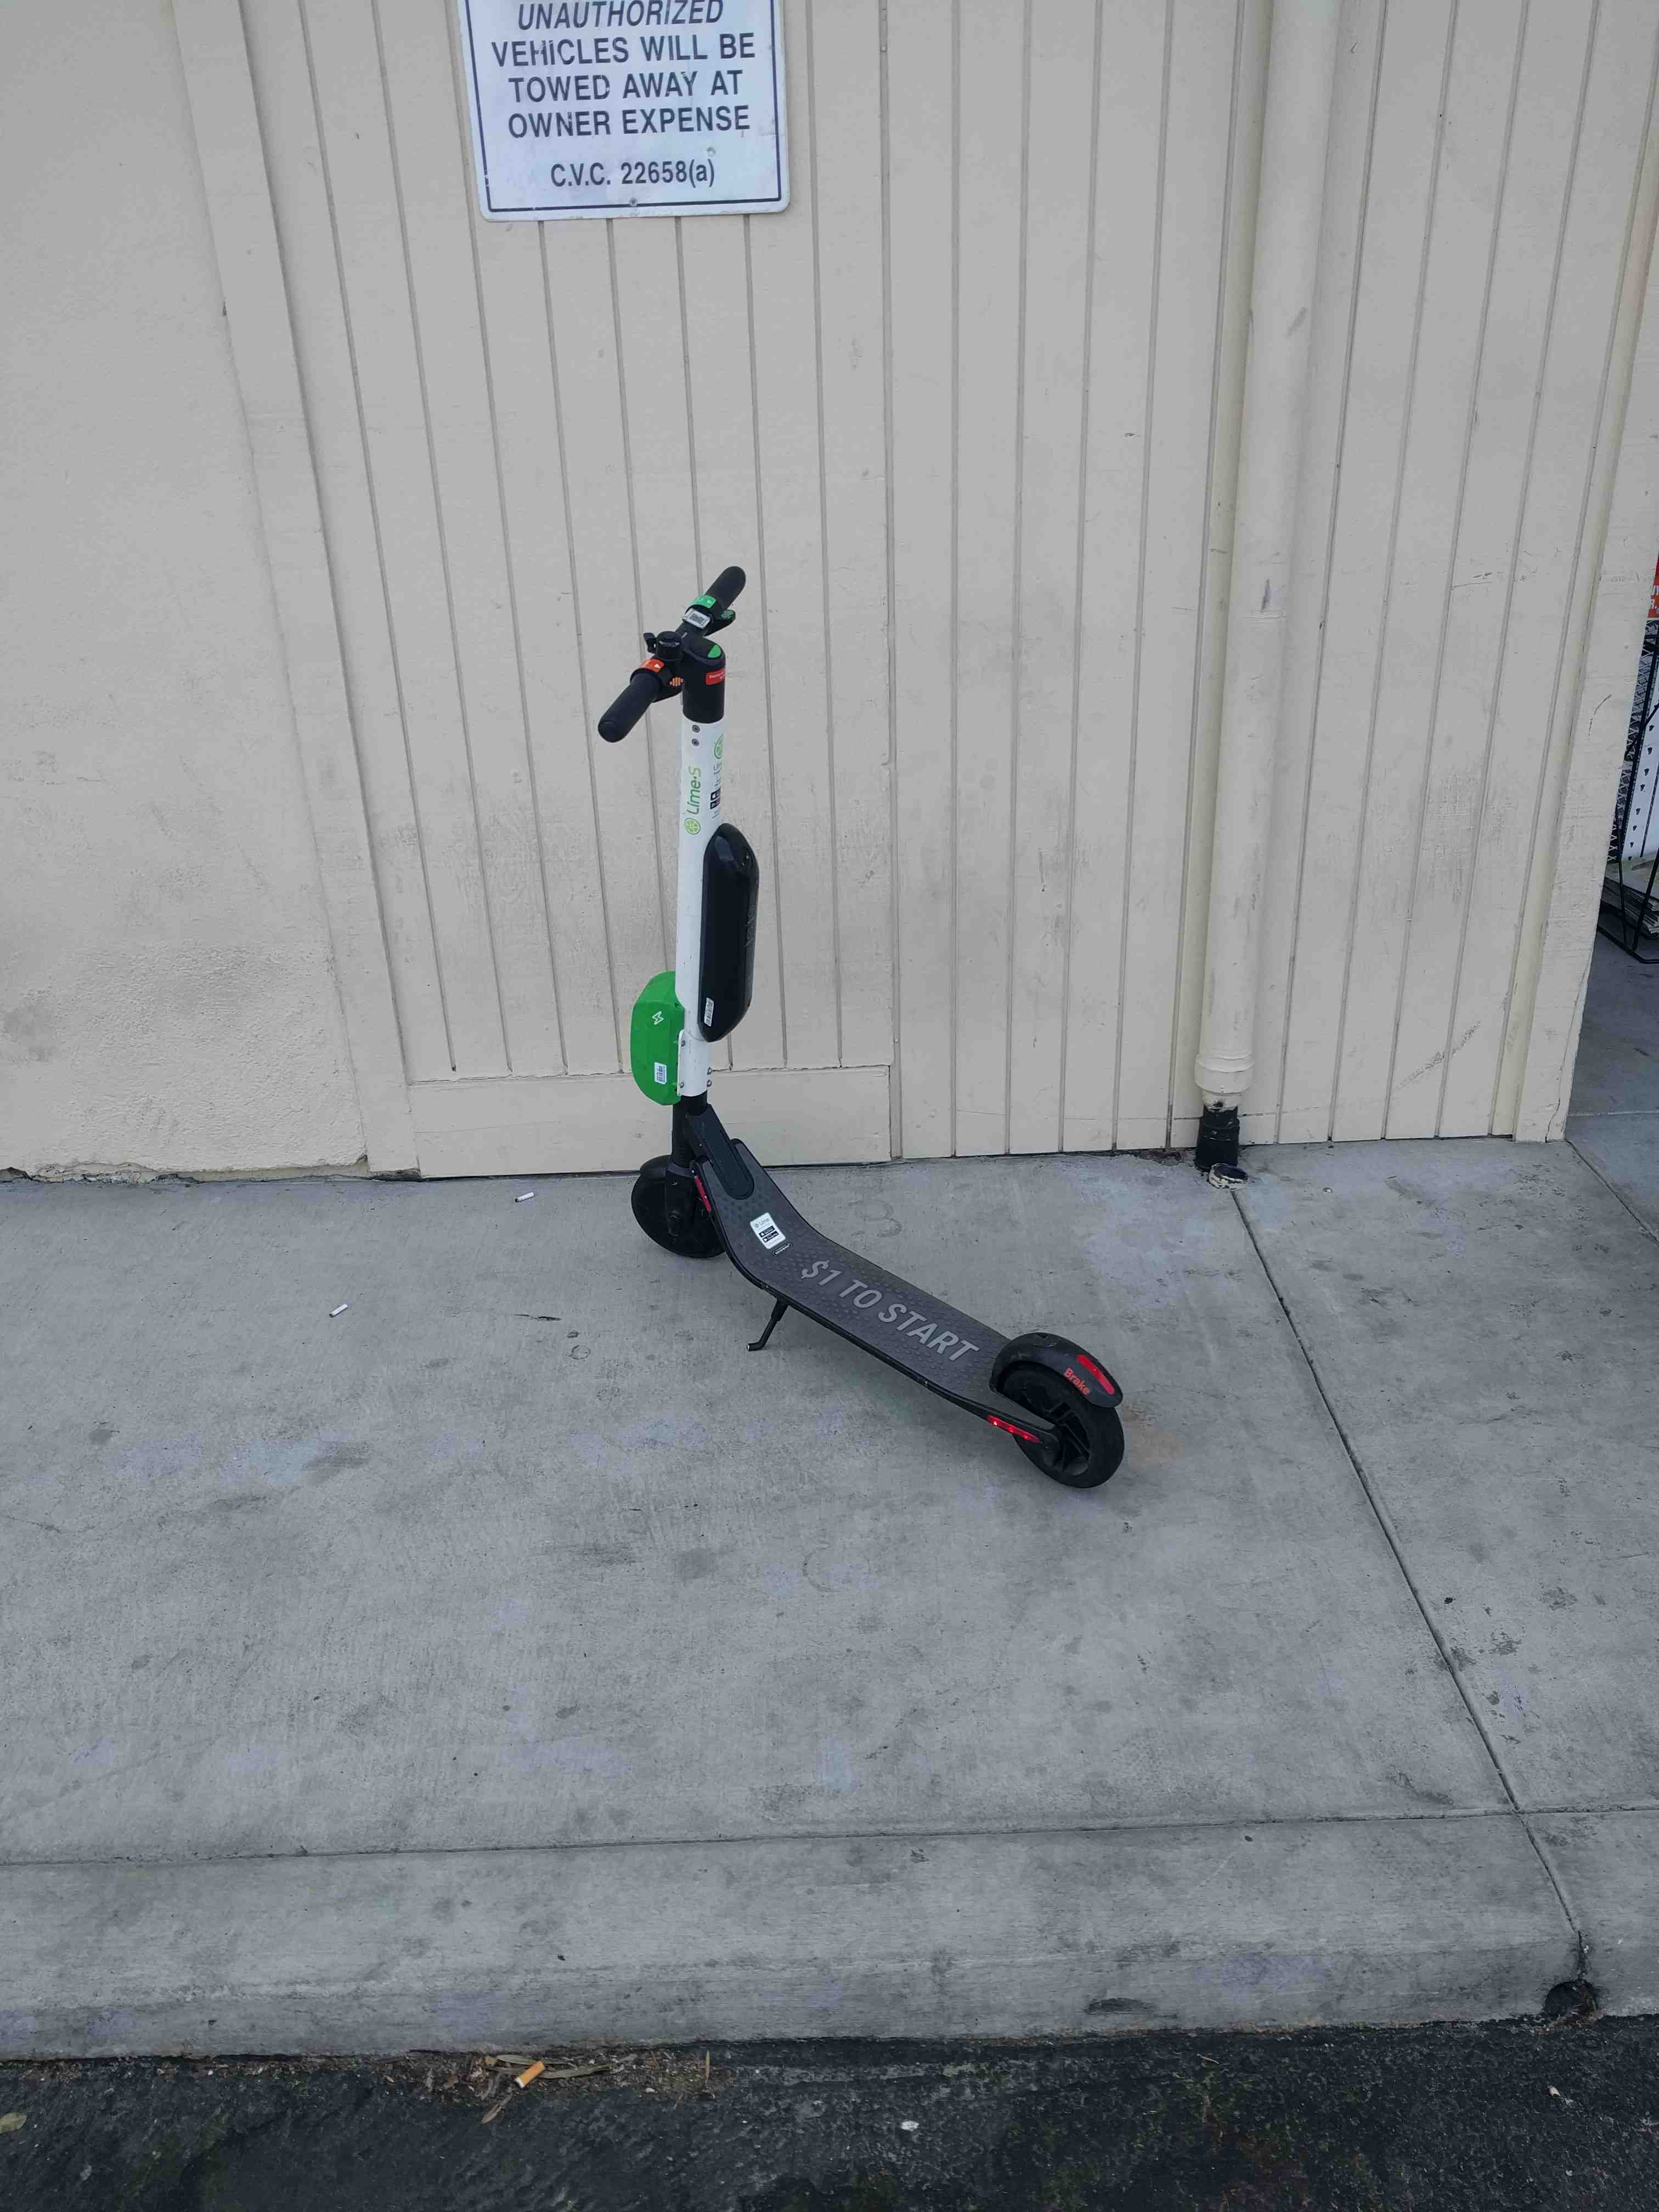scooter: (533, 521, 1147, 1526)
